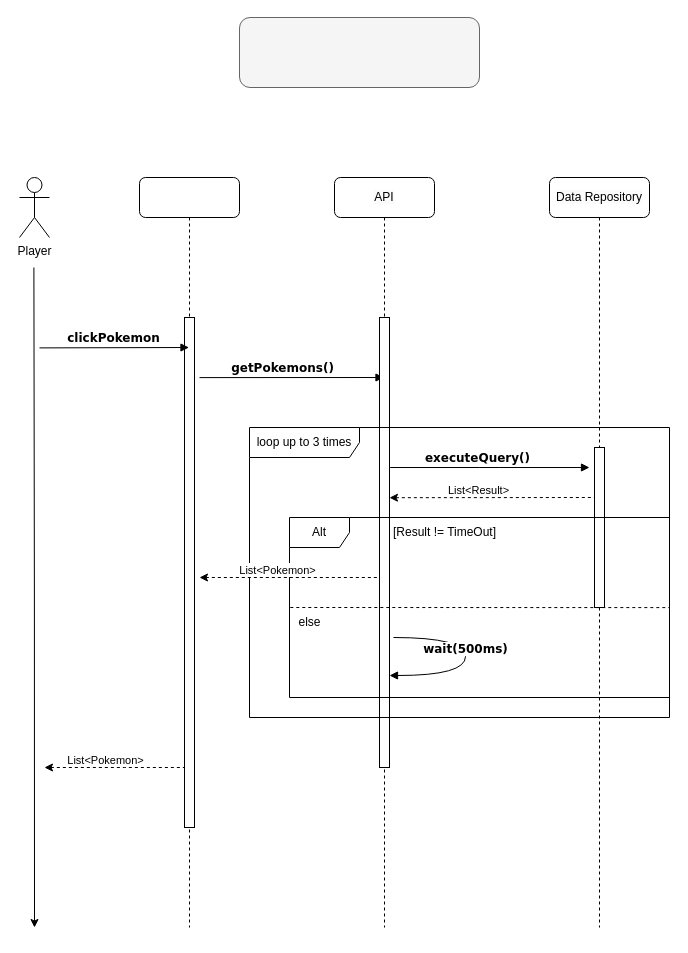
Image size: 688x953. Some labels were removed from this diagram. The box of each missing label's shape, as (x1, y1, x2, y2) in pixels:
Assignment 3 | CS 6310 FALL 2024 Sequence Diagram Robustness Group 55: (238, 16, 480, 88)
Interface: (138, 176, 240, 928)
